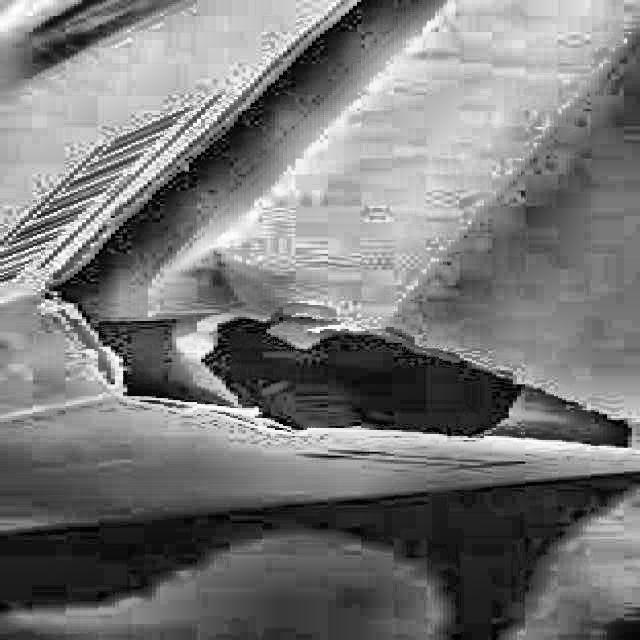box: (1, 0, 639, 541)
hole: (75, 288, 640, 488)
